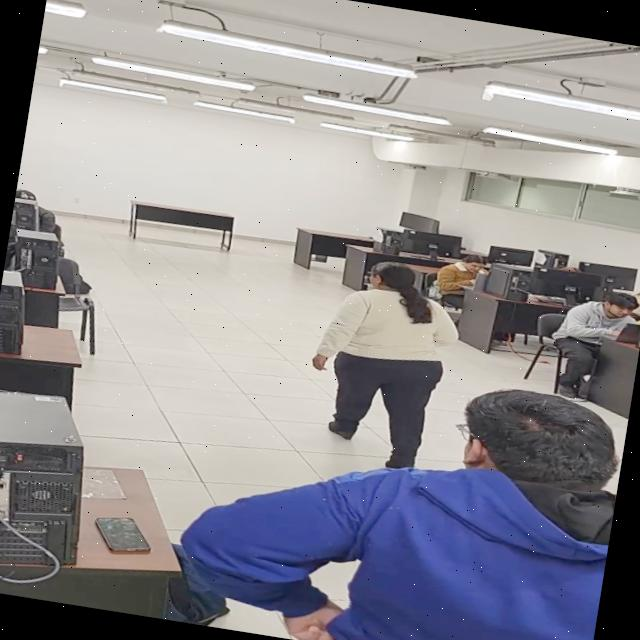Persona: (211, 347, 630, 640), (296, 245, 468, 471)
